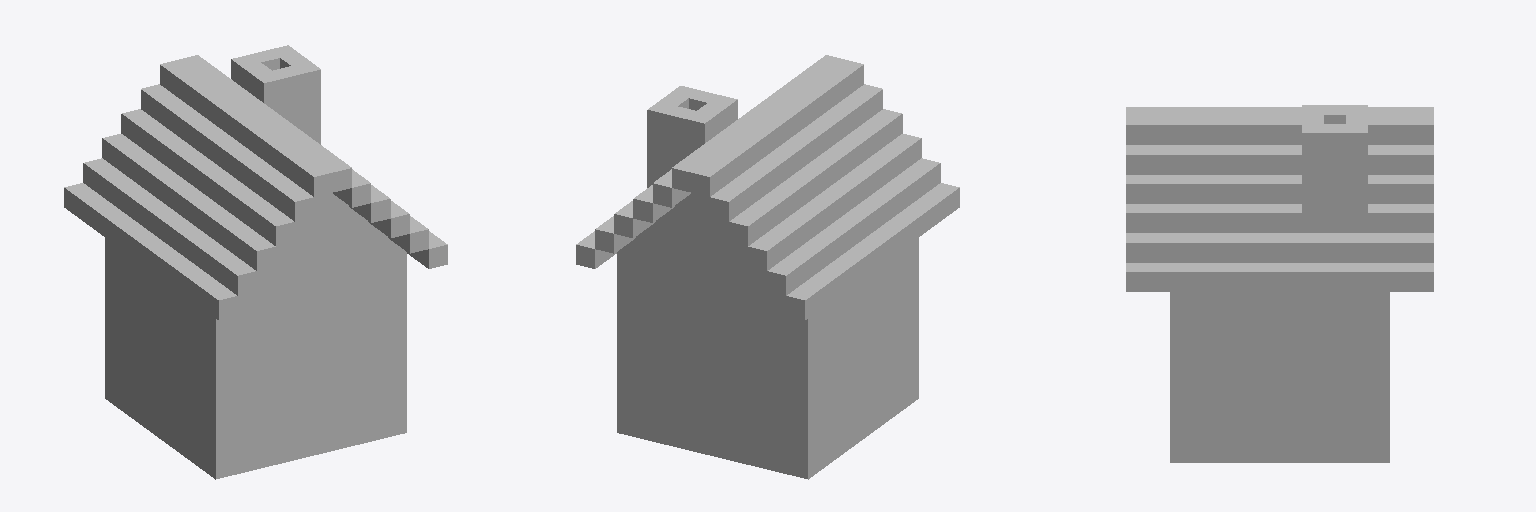
File: house.obj
3 views of the same model, side by side, from view 1: azimuth 30°, elevation 25°; view 2: azimuth 150°, elevation 25°; view 3: azimuth 270°, elevation 25° (orthographic).
Size of the model in its own units: 12 by 16 by 14.